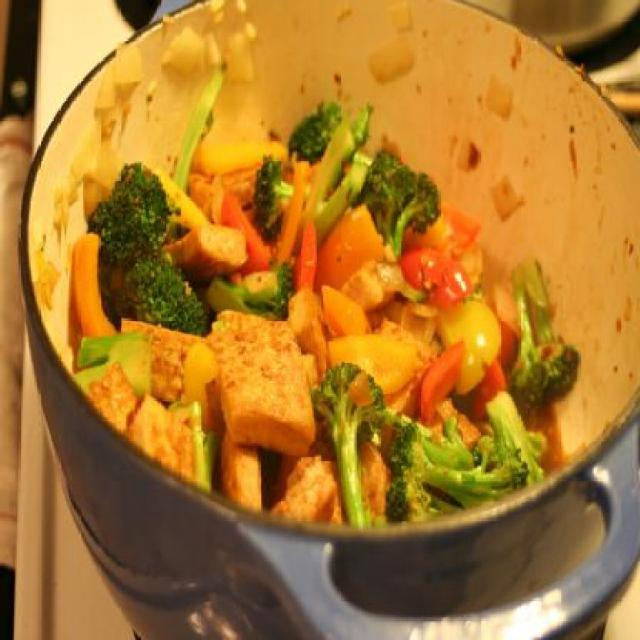Broccoli: (387, 390, 545, 524), (310, 362, 386, 526), (511, 260, 578, 402), (356, 152, 441, 260), (90, 160, 178, 262), (126, 258, 207, 334), (205, 258, 298, 316), (254, 158, 312, 232), (288, 100, 347, 163)
